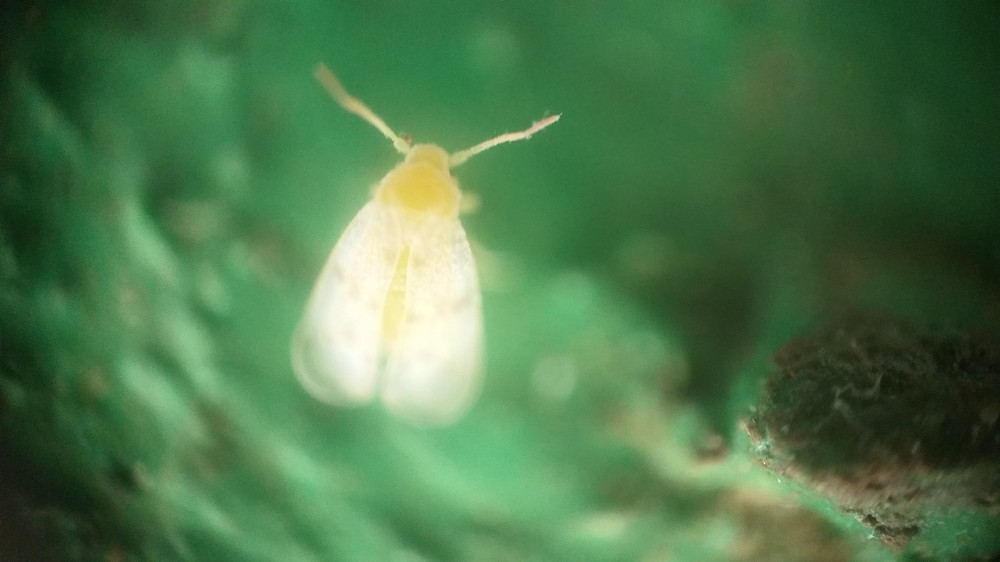Mosca Blanca: (267, 55, 588, 446)
